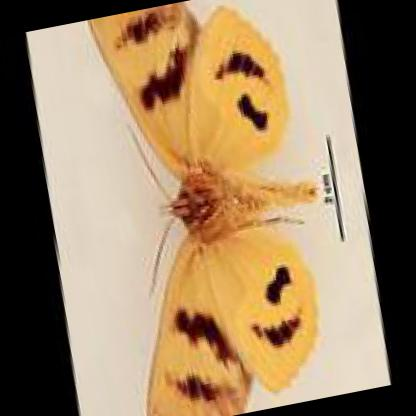fruit sucking moth: (92, 1, 318, 416)
